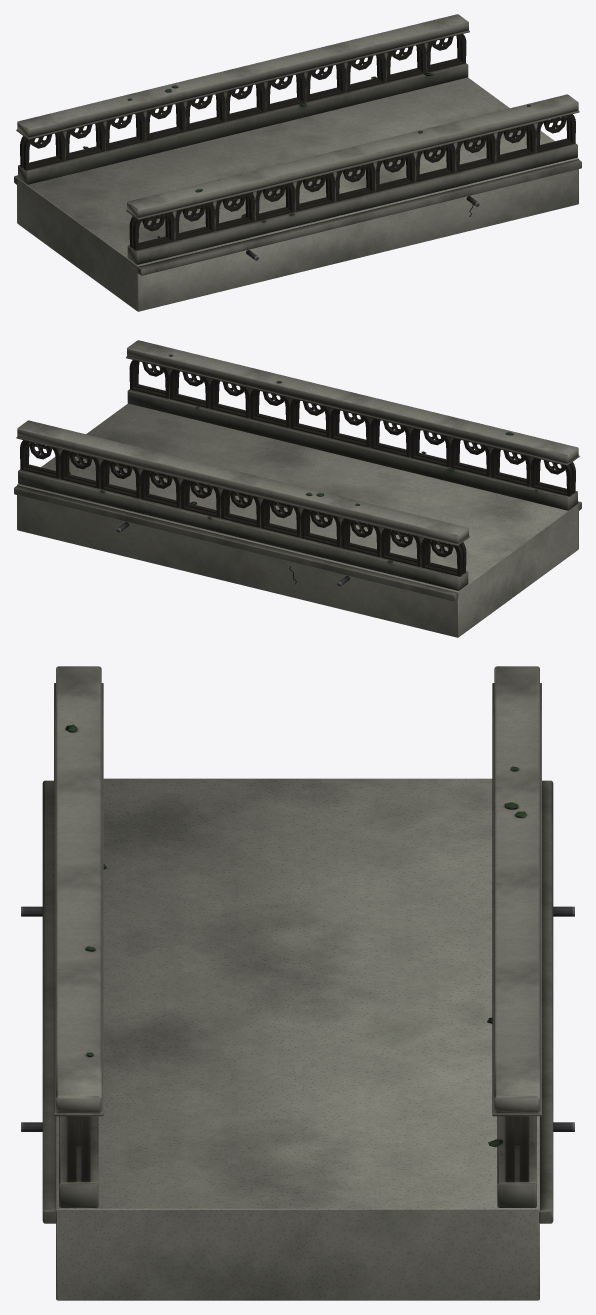
The model's file is BridgeDeck.fbx.
3 views of the same model, one above another, from view 1: azimuth 30°, elevation 25°; view 2: azimuth 150°, elevation 25°; view 3: azimuth 270°, elevation 25° (orthographic). The views are drawn at different scales.
Parts seen in each view (by area): view 1: BridgeDeck_Main, BridgeDeck_Wall; view 2: BridgeDeck_Main, BridgeDeck_Wall; view 3: BridgeDeck_Wall, BridgeDeck_Main.
Boxes of the visible parts, x1=… form: BridgeDeck_Main: x1=14, y1=14, x2=581, y2=275; BridgeDeck_Wall: x1=17, y1=77, x2=578, y2=311; BridgeDeck_Main: x1=14, y1=340, x2=581, y2=601; BridgeDeck_Wall: x1=17, y1=403, x2=578, y2=637; BridgeDeck_Wall: x1=56, y1=778, x2=539, y2=1300; BridgeDeck_Main: x1=21, y1=666, x2=574, y2=1223.
Bounding box in the file's own units: 1600 × 360 × 870.
